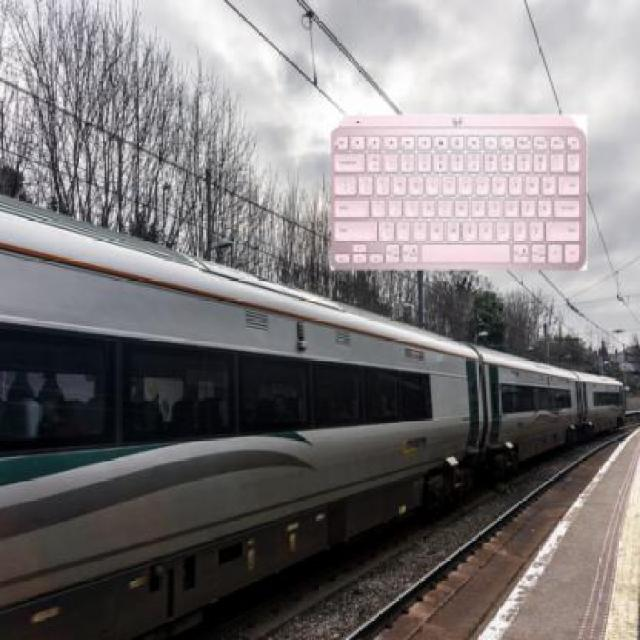keyboard: (330, 118, 580, 274)
